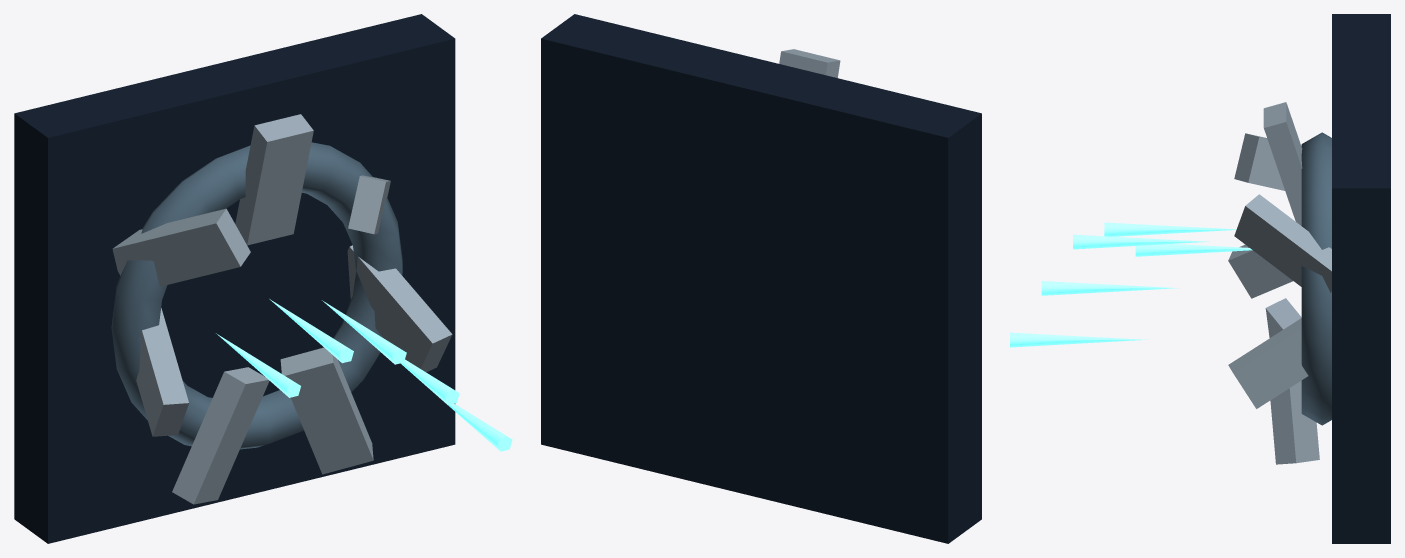
The model's file is device-leak.glb.
3 views of the same model, side by side, from view 1: azimuth 30°, elevation 25°; view 2: azimuth 150°, elevation 25°; view 3: azimuth 270°, elevation 25° (orthographic). The views are drawn at different scales.
Parts seen in each view (by area): view 1: breach-surround, torn-metal (×7), breach-rim, airflow-stream (×5); view 2: breach-surround, torn-metal; view 3: breach-surround, torn-metal (×7), breach-rim, airflow-stream (×5).
Boxes of the visible parts, x1,y1,x2,y2 form: breach-surround: (14, 14, 455, 543); torn-metal (×7): (112, 114, 452, 504); breach-rim: (111, 142, 402, 449); airflow-stream (×5): (216, 299, 512, 451); breach-surround: (541, 14, 981, 543); torn-metal: (779, 49, 840, 77); breach-surround: (1332, 14, 1390, 543); torn-metal (×7): (1228, 102, 1331, 464); breach-rim: (1301, 132, 1331, 425); airflow-stream (×5): (1010, 222, 1252, 347).
Size of the model in its own units: 2.1 by 2 by 1.94.
